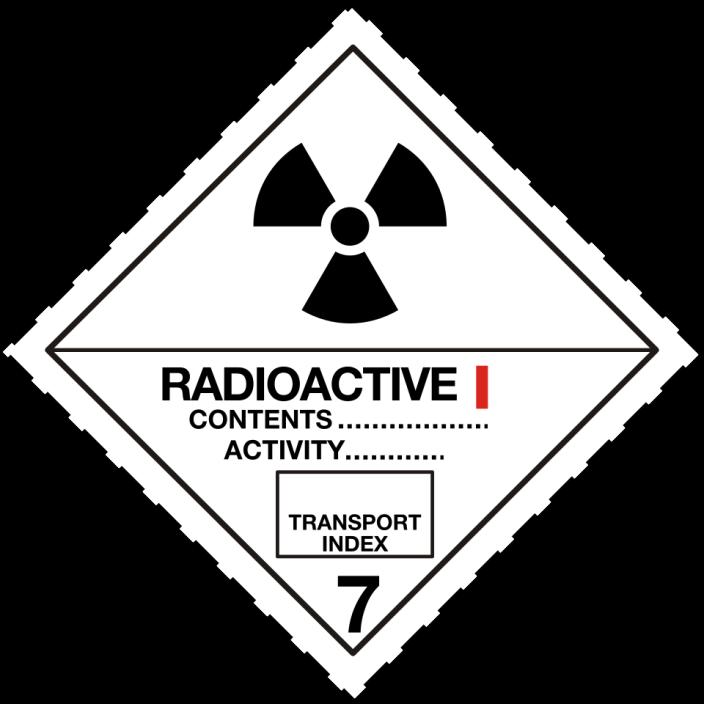doorway: (0, 0, 704, 702)
